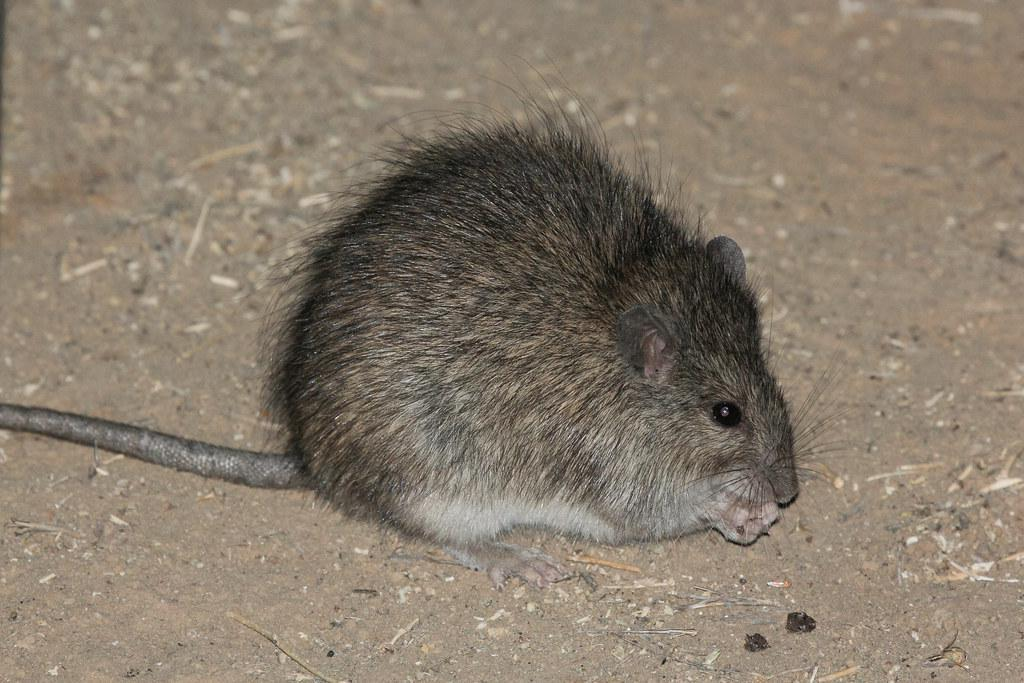rat: (2, 130, 802, 550)
